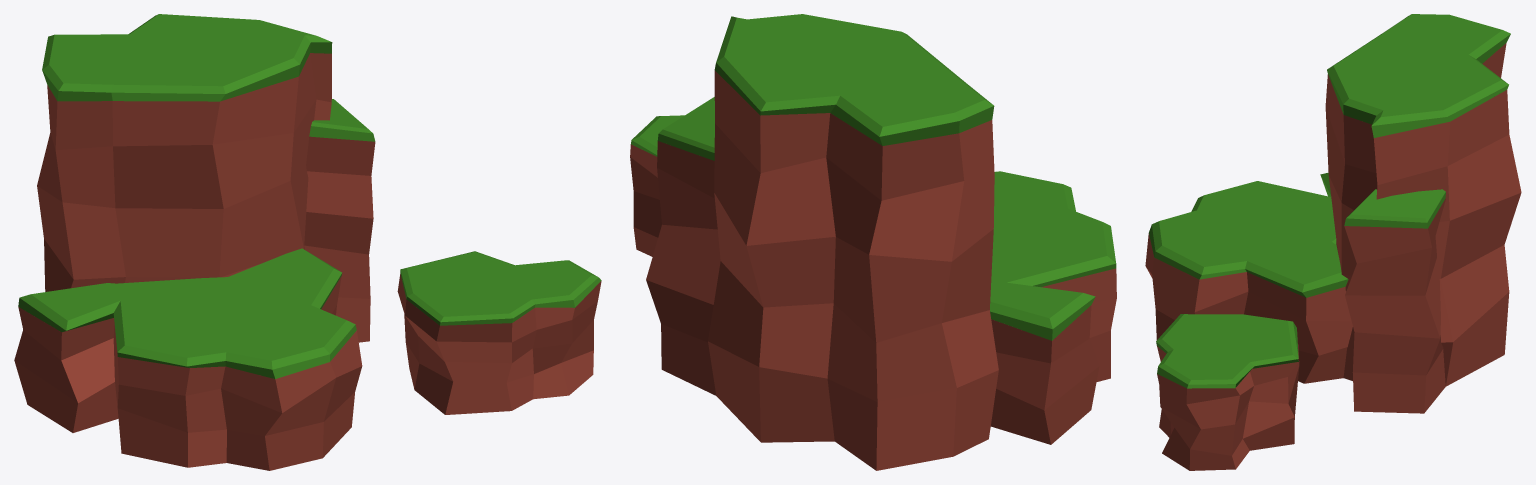
Rendered from rocks3.glb.
3 renders of one model, left to right at view 1: azimuth 30°, elevation 25°; view 2: azimuth 150°, elevation 25°; view 3: azimuth 270°, elevation 25°, orthographic. The views are drawn at different scales.
Parts seen in each view (by area): view 1: Plane; view 2: Plane; view 3: Plane.
Part boxes in pixels (bbox=[...]): Plane: bbox=[14, 14, 601, 470]; Plane: bbox=[630, 14, 1116, 470]; Plane: bbox=[1145, 14, 1521, 470].
Bounding box in the file's own units: 4.27 × 2.67 × 3.26.
